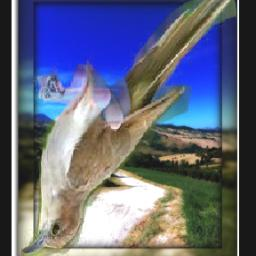Cuckoo: (21, 0, 236, 256)
